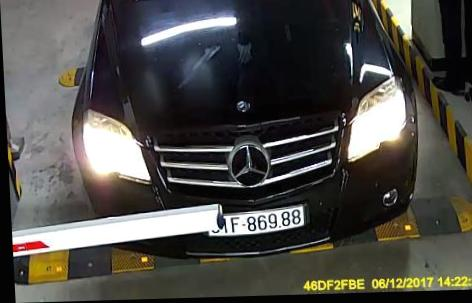License_Plate: (204, 204, 307, 236)
